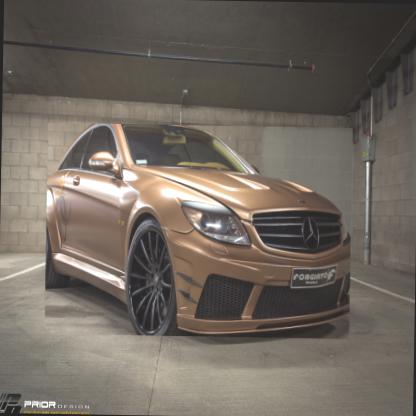Car: (44, 122, 353, 340)
